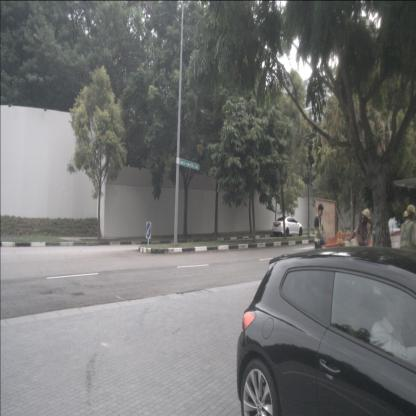vehicle-car: (236, 246, 416, 415), (272, 216, 303, 237)
